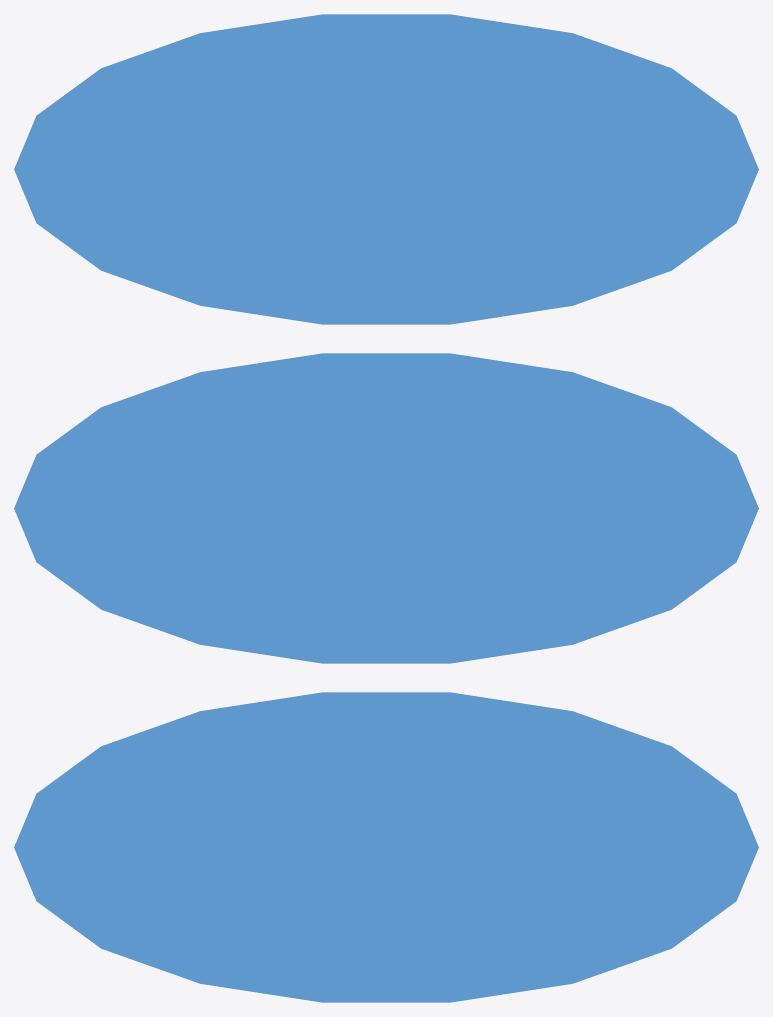
Rendered from Water_Liquid_V1.fbx.
The picture shows the model from 3 angles, top to bottom: view 1: azimuth 30°, elevation 25°; view 2: azimuth 150°, elevation 25°; view 3: azimuth 270°, elevation 25°; orthographic projection.
Visible parts, largest first — view 1: Water_Liquid; view 2: Water_Liquid; view 3: Water_Liquid.
Part boxes in pixels (x1=…): Water_Liquid: x1=14, y1=14, x2=758, y2=324; Water_Liquid: x1=14, y1=353, x2=758, y2=663; Water_Liquid: x1=14, y1=692, x2=758, y2=1002.
Size of the model in its own units: 249 by 4.12e-05 by 253.
